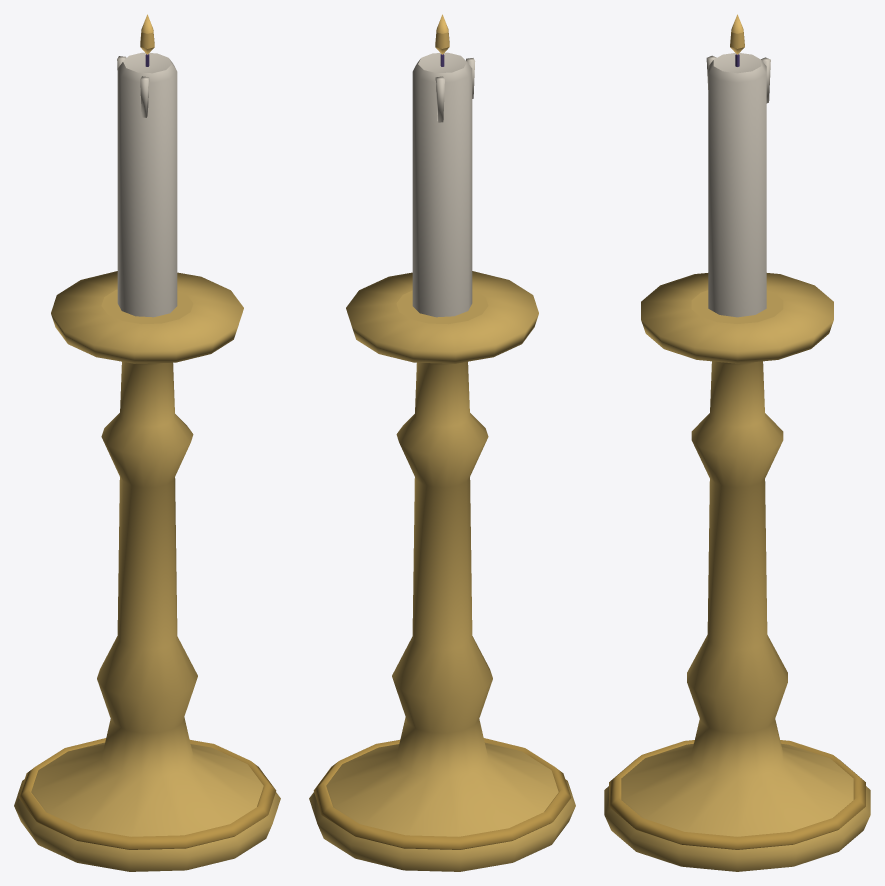
The model's file is candlestick_brass.glb.
3 renders of one model, left to right at view 1: azimuth 30°, elevation 25°; view 2: azimuth 150°, elevation 25°; view 3: azimuth 270°, elevation 25°, orthographic.
Visible parts, largest first — view 1: candlestick_brass; view 2: candlestick_brass; view 3: candlestick_brass.
Part boxes in pixels (left/top/right/bottom): candlestick_brass: left=14, top=14, right=280, bottom=871; candlestick_brass: left=309, top=14, right=575, bottom=871; candlestick_brass: left=604, top=14, right=870, bottom=871.
Size of what is drawn, in the model's own units: 0.12 by 0.4 by 0.12.
